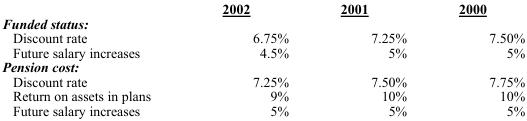table: (1, 0, 524, 118)
table column: (1, 0, 185, 118), (185, 0, 313, 118), (313, 0, 432, 118), (432, 0, 524, 118)
table column header: (1, 0, 524, 15)
table projected row header: (1, 15, 524, 30), (1, 59, 524, 73)
table row: (1, 0, 524, 15), (1, 15, 524, 30), (1, 44, 524, 59), (1, 73, 524, 88), (1, 88, 524, 103), (1, 103, 524, 118), (1, 30, 524, 44), (1, 59, 524, 73)
